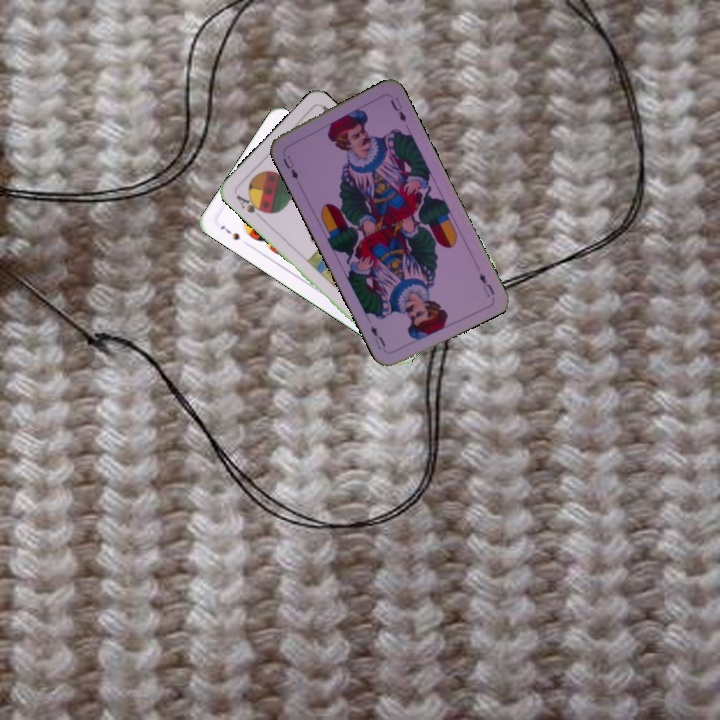EU: (475, 268, 497, 300), (278, 152, 301, 182)
S7: (216, 221, 242, 243)
SA: (232, 191, 269, 216)
